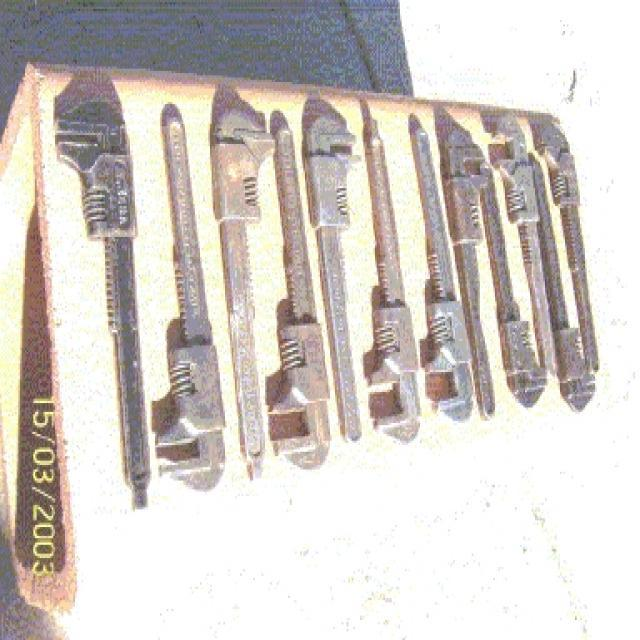wrench: (51, 92, 152, 520), (147, 108, 231, 494), (262, 126, 334, 476), (208, 106, 272, 484), (354, 110, 421, 438), (305, 116, 368, 450), (409, 121, 475, 427), (489, 111, 559, 384)
